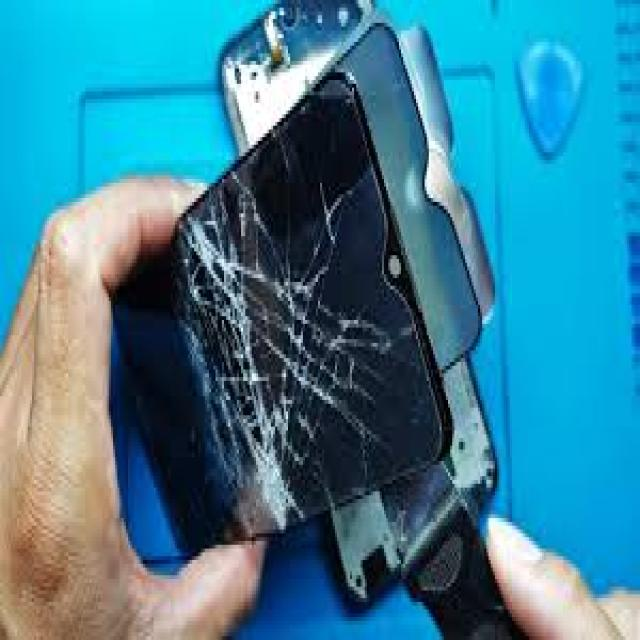mobile phone: (0, 0, 638, 636), (13, 19, 494, 621), (194, 12, 512, 624)
